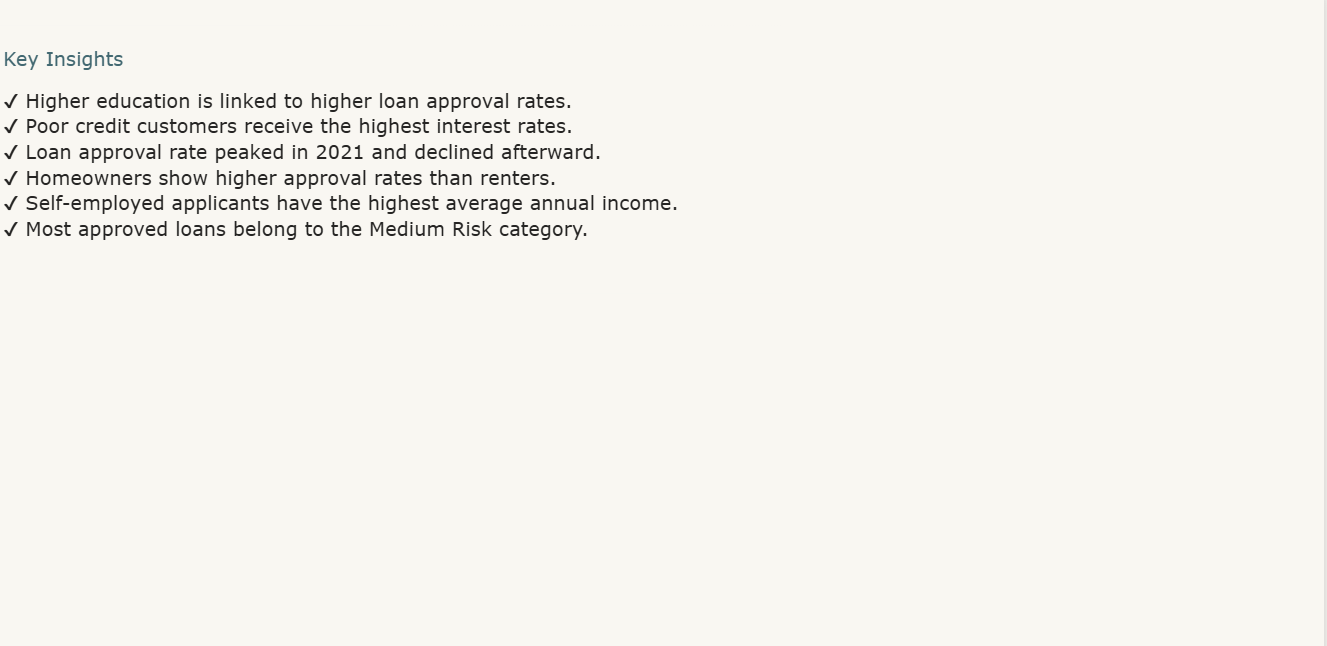

This screenshot's page, from the dashboard's own definition file:
{"tool":"powerbi","page":{"name":"Insights","canvas":[1280,720],"ordinal":1},"visuals":[{"type":"textbox","box":[0,31.4,756.4,258.2],"z":0}]}

Visuals, with their boxes on the page's 1280x720 design canvas (x1, y1, x2, y2). These are canvas units, not pixel positions in the 1327x646 screenshot, which may show the page scaled, cropped or inside an application window:
textbox: 0:31:756:290
